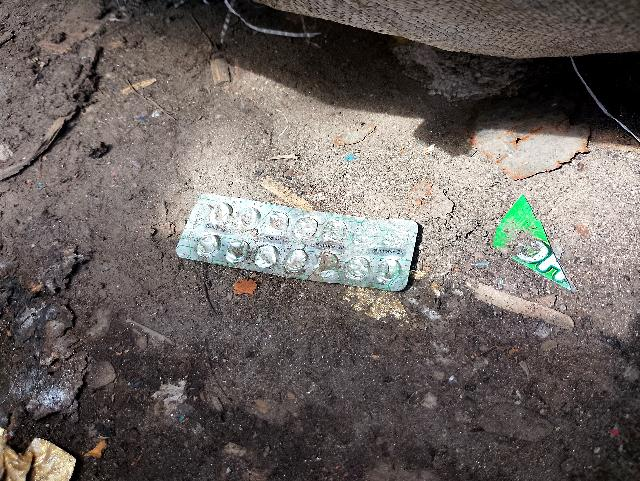medicine: (172, 179, 421, 293)
